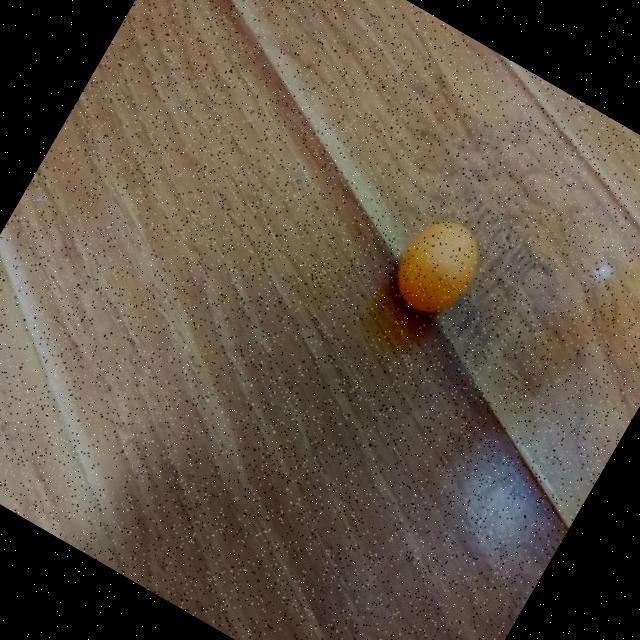ping-pong-ball: (382, 207, 492, 326)
